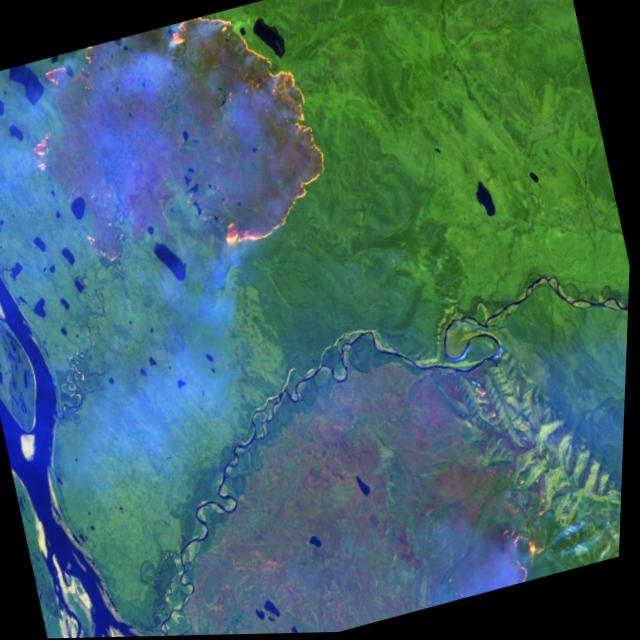fire: (6, 0, 356, 310), (498, 500, 564, 585)
